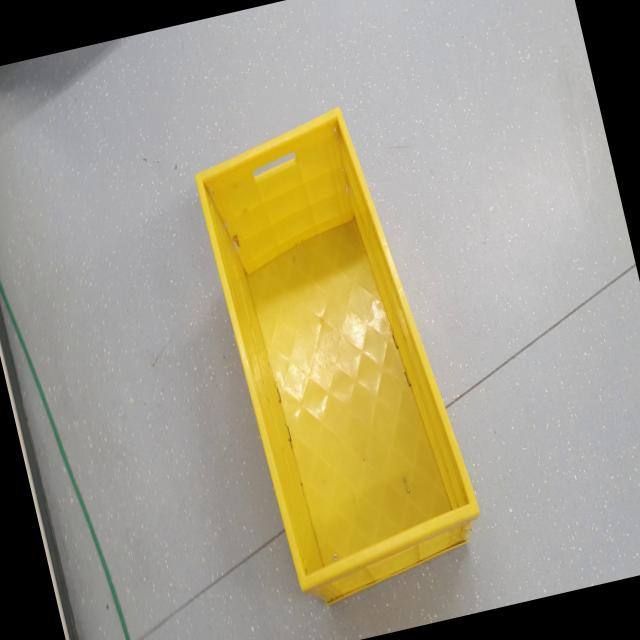box: (181, 84, 504, 640)
